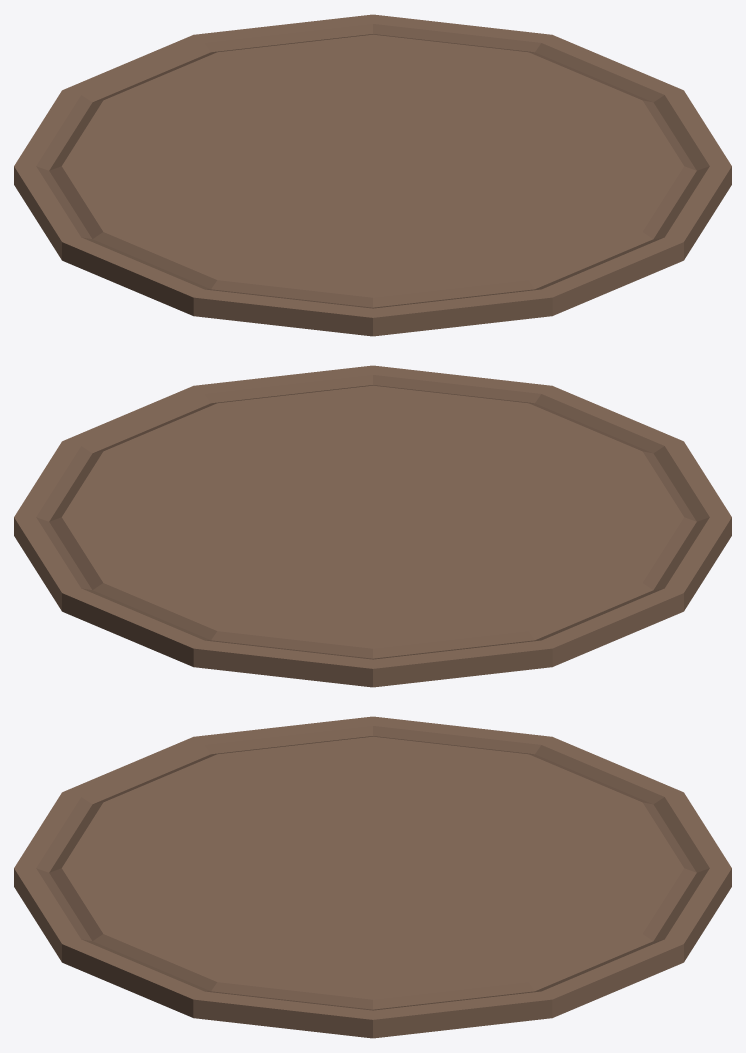
Rendered from CuttingBoard_03.fbx.
3 views of the same model, one above another, from view 1: azimuth 30°, elevation 25°; view 2: azimuth 150°, elevation 25°; view 3: azimuth 270°, elevation 25° (orthographic).
Parts seen in each view (by area): view 1: CuttingBoard_03; view 2: CuttingBoard_03; view 3: CuttingBoard_03.
Part boxes in pixels (x1,y1,x2,y2): CuttingBoard_03: (14,14,731,336); CuttingBoard_03: (14,365,731,687); CuttingBoard_03: (14,716,731,1038).
Bounding box in the file's own units: 35 × 1 × 35.
